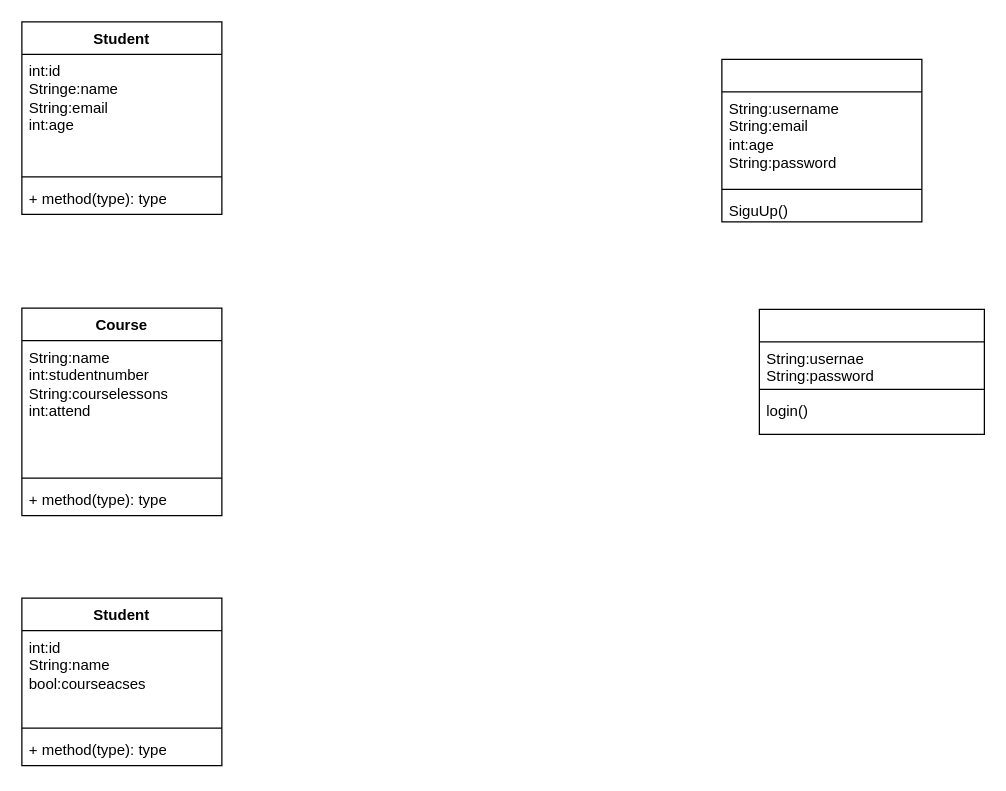
This 1006x791 diagram has some shape labels left out. The shapes that lost their labels are listed below. From the top down, each one's box as (x1, y1, x2, y2) in pixels, then its label:
(721, 58, 922, 222): Signup
(758, 308, 984, 434): SignIn
